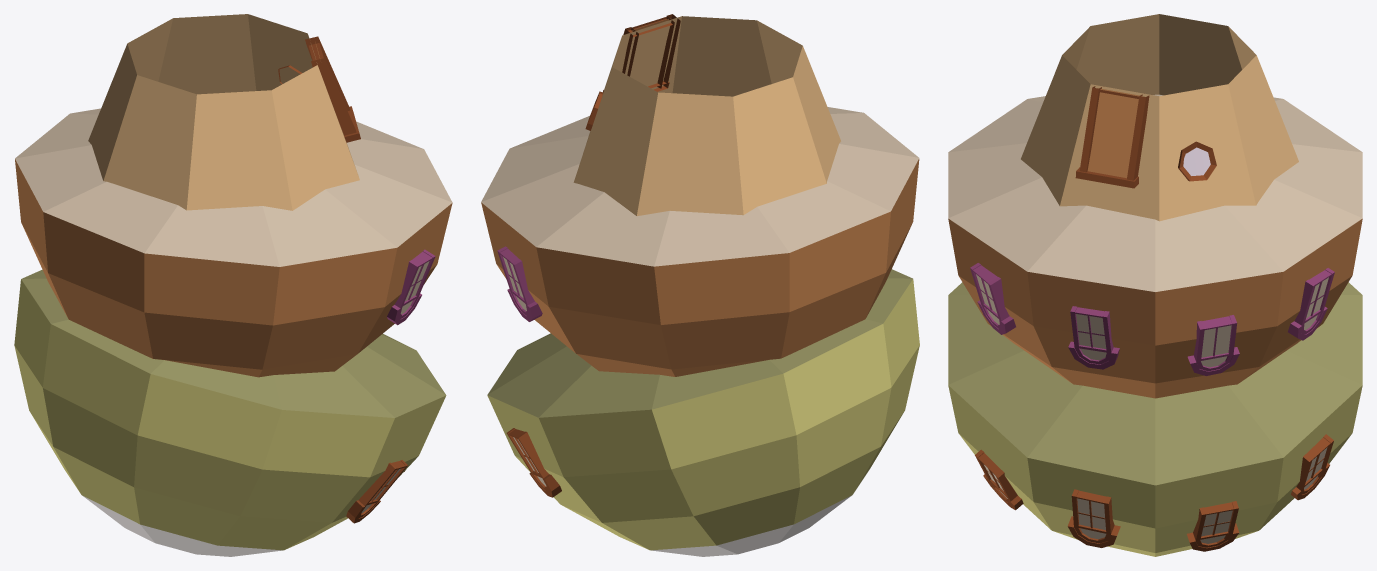
The model's file is building 4.fbx.
3 renders of one model, left to right at view 1: azimuth 30°, elevation 25°; view 2: azimuth 150°, elevation 25°; view 3: azimuth 270°, elevation 25°, orthographic.
Parts seen in each view (by area): view 1: polySurface508; view 2: polySurface508; view 3: polySurface508.
Part boxes in pixels (x1,y1,x2,y2): polySurface508: (14,14,452,556); polySurface508: (481,14,919,556); polySurface508: (948,14,1362,556).
Bounding box in the file's own units: 1.69 × 2.05 × 1.61.
